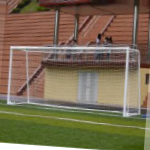goals: (7, 44, 142, 117)
